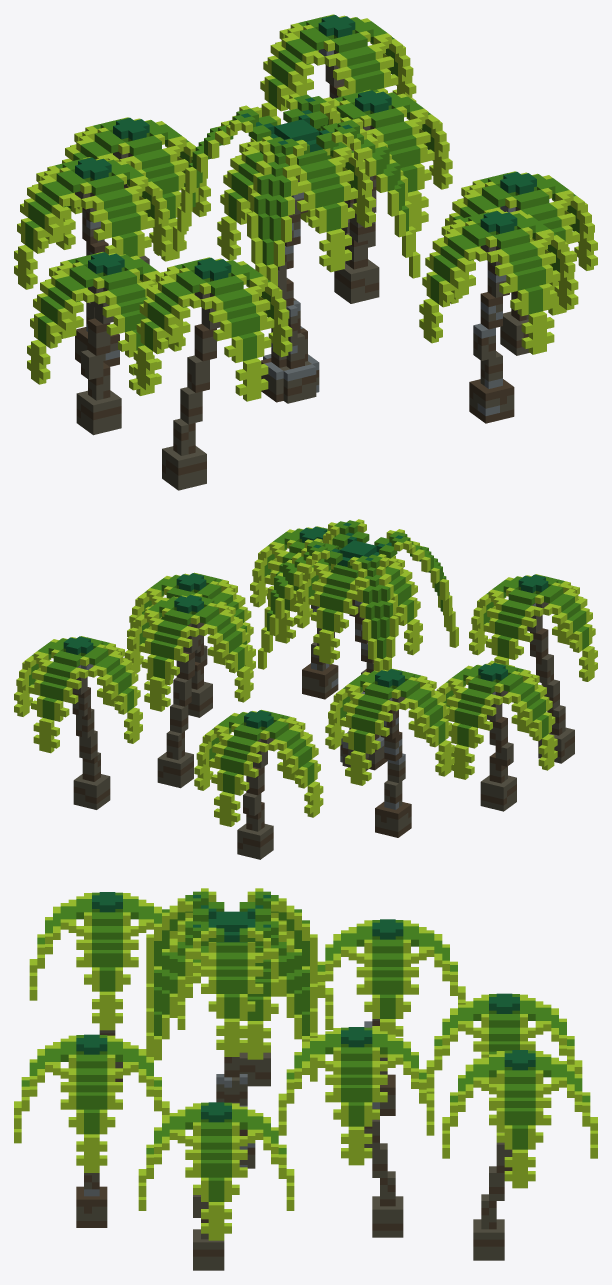
File: palms_4_overtile.obj
The picture shows the model from 3 angles, top to bottom: view 1: azimuth 30°, elevation 25°; view 2: azimuth 150°, elevation 25°; view 3: azimuth 270°, elevation 25°; orthographic projection. The views are drawn at different scales.
Size of the model in its own units: 7.5 by 3.6 by 7.5.
1 material, 1 textured.
